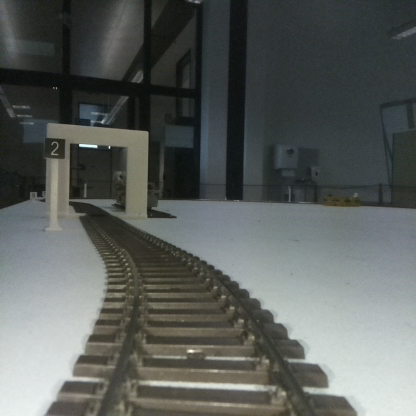black-info-2: (45, 138, 65, 230)
